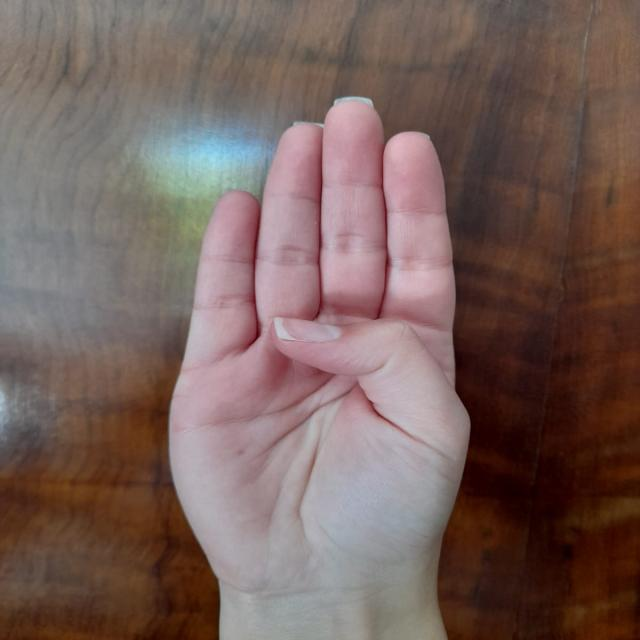B: (122, 80, 506, 622)
